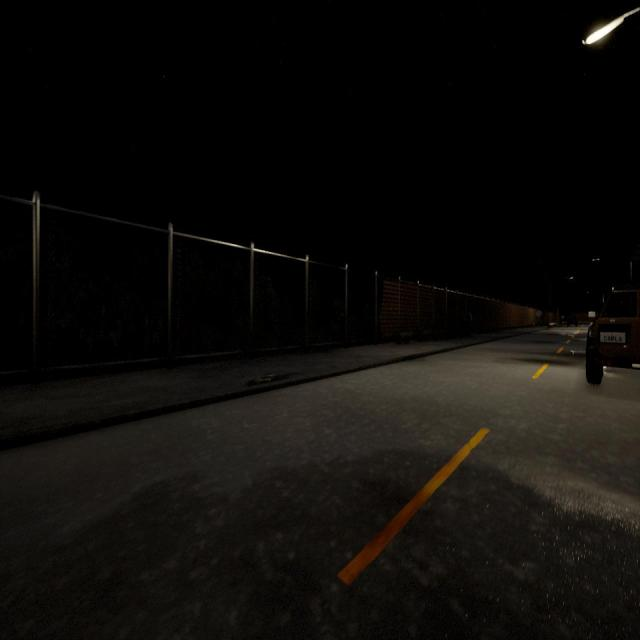Traffic_Signs: (536, 310, 542, 317)
Vehicle: (586, 287, 640, 384)
